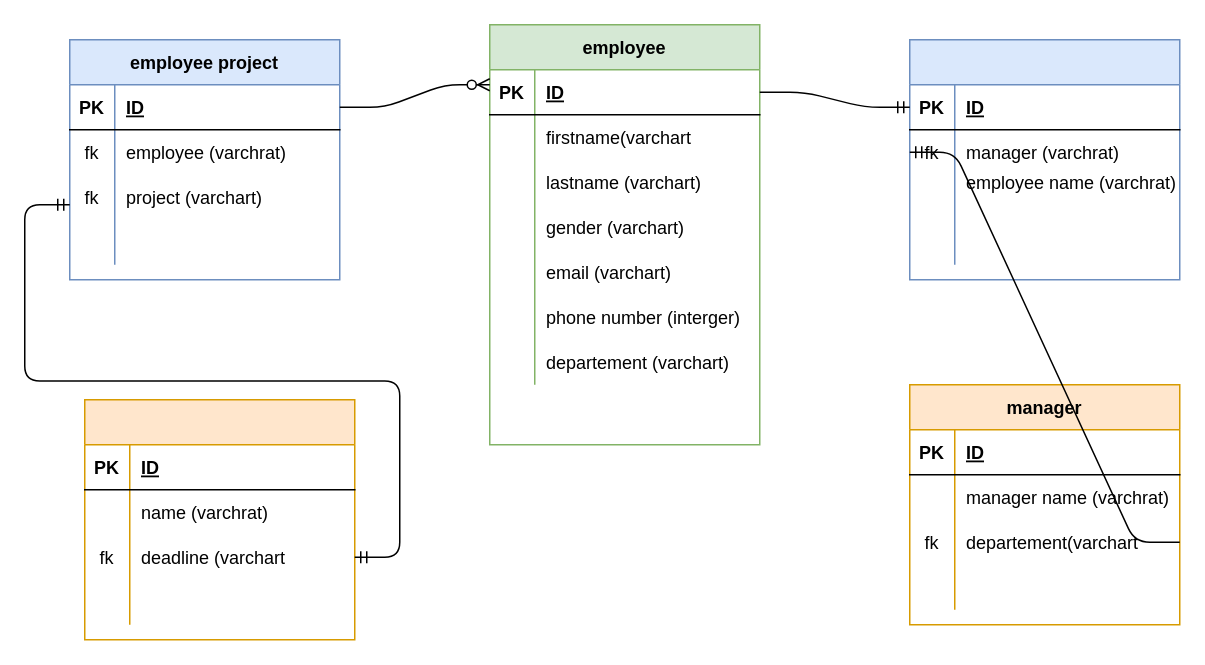
Image size: 1205x665. Some labels were removed from this diagram. The shapes that lost their labels are listed below. From the top down, each one's box as (x1, y1, x2, y2) in pixels, then its label:
(908, 38, 1180, 280): departement
(83, 398, 355, 640): project
